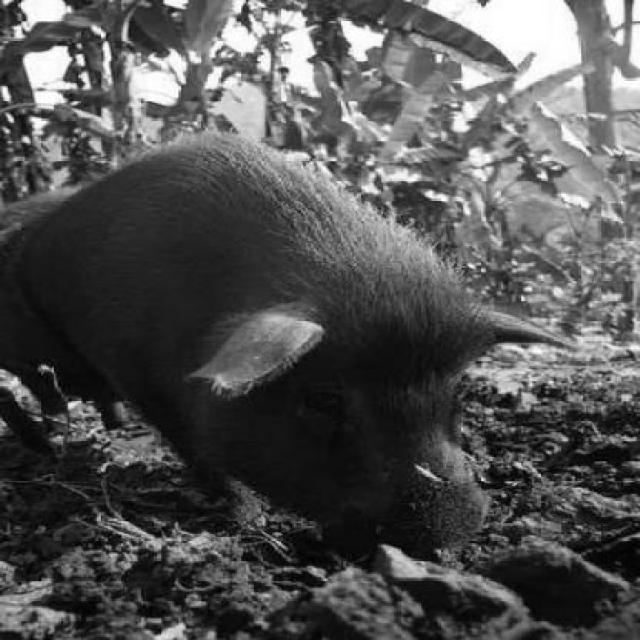Boar: (1, 165, 533, 543)
